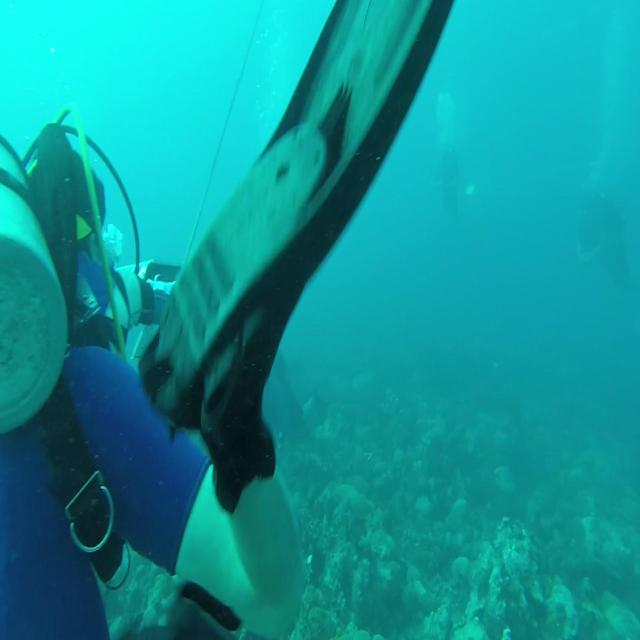human: (1, 0, 485, 640)
